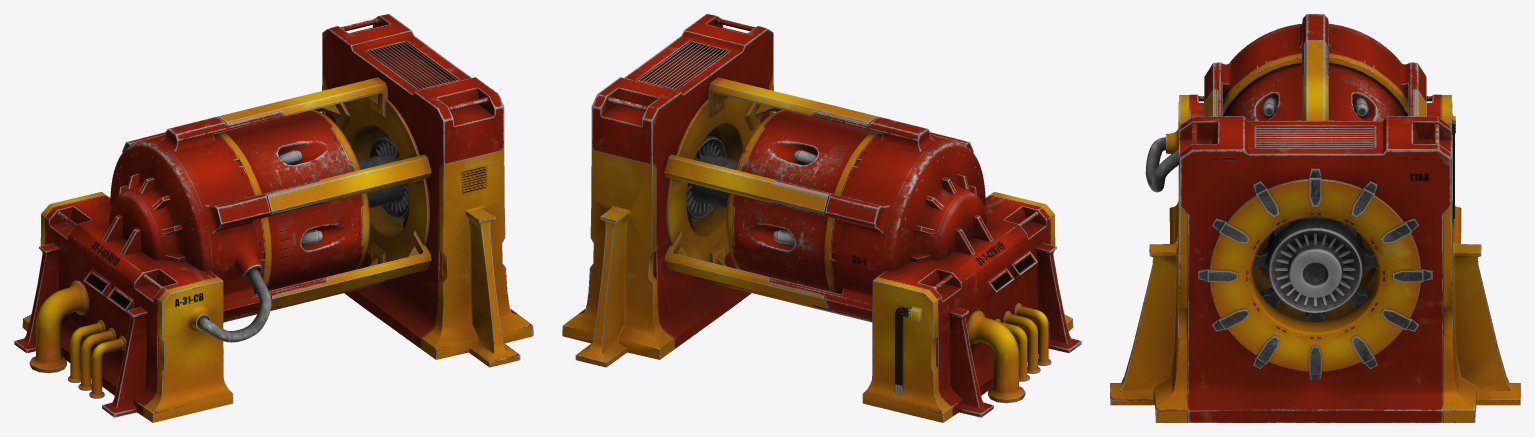
Rendered from IndustrialMachine2.FBX.
3 renders of one model, left to right at view 1: azimuth 30°, elevation 25°; view 2: azimuth 150°, elevation 25°; view 3: azimuth 270°, elevation 25°, orthographic. The views are drawn at different scales.
Visible parts, largest first — view 1: Console1, Block2, Baraban2; view 2: Console1, Block2, Baraban2; view 3: Block2, Baraban2, Console1.
Boxes of the visible parts, box(x1,y1,x2,y2) form: Console1: box(14, 77, 431, 422); Block2: box(322, 14, 533, 367); Baraban2: box(224, 110, 409, 290); Console1: box(664, 77, 1081, 422); Block2: box(562, 14, 773, 367); Baraban2: box(686, 110, 871, 291); Block2: box(1110, 116, 1520, 422); Baraban2: box(1223, 63, 1407, 321); Console1: box(1145, 14, 1461, 243).
Size of the model in its own units: 114 by 62.76 by 88.39.
